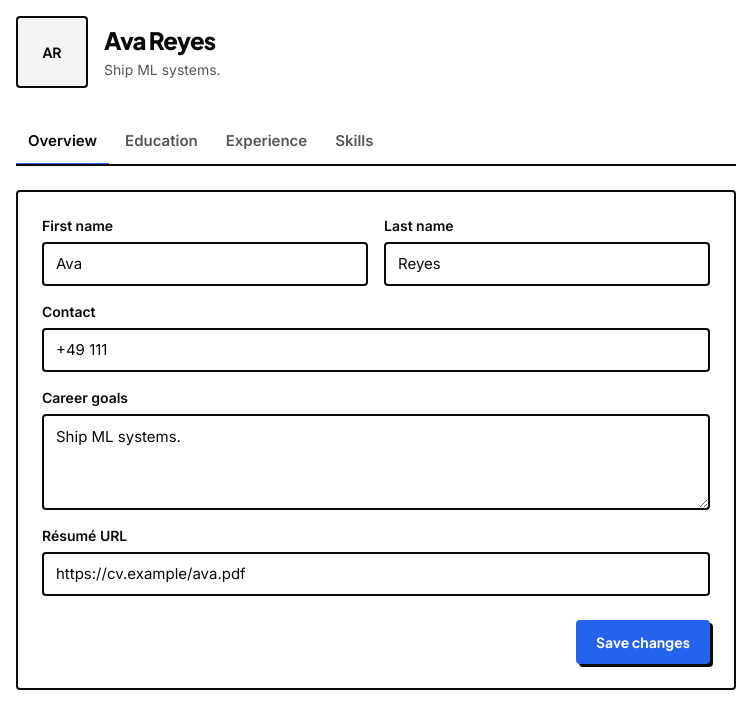
Test: SeekerProfilePage › lists skills with their level
The width and height of the screenshot is (753, 707).
What coordinates should you click on to do the following:
click the tab "Skills"
I would click on:
 (354, 143)
Its box is left=323, top=120, right=386, bottom=166.
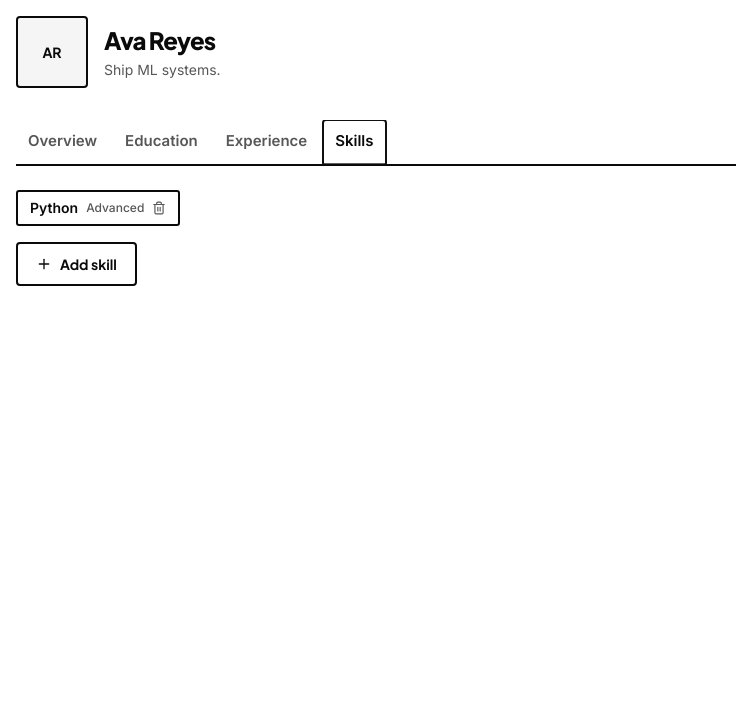
Result: the text "Python" is shown at left=30, top=198, right=78, bottom=216
Result: the text "Advanced" is shown at left=86, top=200, right=144, bottom=216
